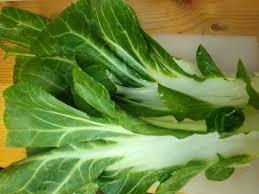Healthy-Pechay: (5, 0, 241, 191)
